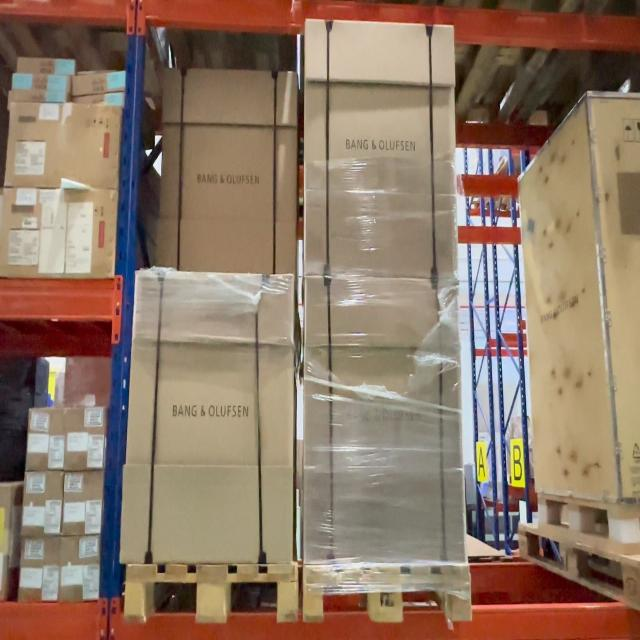box: (121, 272, 295, 560), (304, 273, 464, 569), (306, 18, 458, 280), (3, 102, 121, 189), (17, 535, 61, 602), (60, 533, 100, 603), (62, 471, 104, 534), (23, 471, 60, 537), (65, 407, 105, 467), (27, 406, 65, 469), (73, 70, 126, 96), (12, 74, 70, 91), (17, 59, 75, 75)
